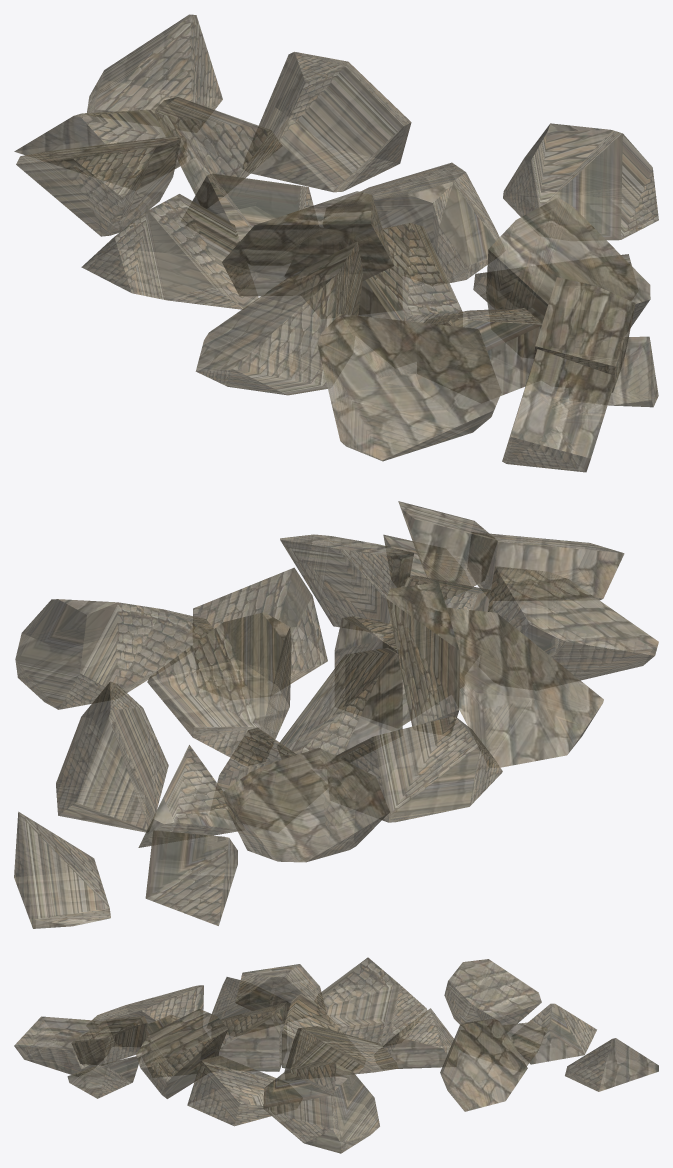
The model's file is BreakWallSmall_000018.obj.
The picture shows the model from 3 angles, top to bottom: view 1: azimuth 30°, elevation 25°; view 2: azimuth 150°, elevation 25°; view 3: azimuth 270°, elevation 25°; orthographic projection. The views are drawn at different scales.
Parts seen in each view (by area): view 1: Cube.002_cell.013_Cube.002_cell.012, Cube.002_cell.014_Cube.002_cell.013, Cube.002_cell.017_Cube.002_cell.016, Cube.002_cell.003_Cube.002_cell.002, Cube.002_cell.012_Cube.002_cell.011, Cube.002_cell.004_Cube.002_cell.003, Cube.002_cell.010_Cube.002_cell.009, Cube.002_cell.009_Cube.002_cell.008, Cube.002_cell.002_Cube.002_cell.001, Cube.002_cell.015_Cube.002_cell.014, Cube.002_cell.005_Cube.002_cell.004, Cube.002_cell.007_Cube.002_cell.006 (+6 smaller); view 2: Cube.002_cell.017_Cube.002_cell.016, Cube.002_cell.003_Cube.002_cell.002, Cube.002_cell.015_Cube.002_cell.014, Cube.002_cell.010_Cube.002_cell.009, Cube.002_cell.014_Cube.002_cell.013, Cube.002_cell.013_Cube.002_cell.012, Cube.002_cell.012_Cube.002_cell.011, Cube.002_cell.006_Cube.002_cell.005, Cube.002_cell.009_Cube.002_cell.008, Cube.002_cell.004_Cube.002_cell.003, Cube.002_cell.005_Cube.002_cell.004, Cube.002_cell.018_Cube.002_cell.017 (+8 smaller); view 3: Cube.002_cell.003_Cube.002_cell.002, Cube.002_cell.014_Cube.002_cell.013, Cube.002_cell.012_Cube.002_cell.011, Cube.002_cell.004_Cube.002_cell.003, Cube.002_cell.010_Cube.002_cell.009, Cube.002_cell.016_Cube.002_cell.015, Cube.002_cell.015_Cube.002_cell.014, Cube.002_cell.008_Cube.002_cell.007, Cube.002_cell.002_Cube.002_cell.001, Cube.002_cell.009_Cube.002_cell.008, Cube.002_cell.005_Cube.002_cell.004, Cube.002_cell_Cube.002_cell.020 (+8 smaller).
Boxes of the visible parts, bbox=[...] form: Cube.002_cell.013_Cube.002_cell.012: bbox=[317, 313, 501, 461]; Cube.002_cell.014_Cube.002_cell.013: bbox=[251, 51, 411, 192]; Cube.002_cell.017_Cube.002_cell.016: bbox=[195, 241, 363, 395]; Cube.002_cell.003_Cube.002_cell.002: bbox=[503, 123, 658, 240]; Cube.002_cell.012_Cube.002_cell.011: bbox=[81, 194, 258, 309]; Cube.002_cell.004_Cube.002_cell.003: bbox=[486, 197, 650, 327]; Cube.002_cell.010_Cube.002_cell.009: bbox=[16, 136, 180, 236]; Cube.002_cell.009_Cube.002_cell.008: bbox=[222, 191, 393, 296]; Cube.002_cell.002_Cube.002_cell.001: bbox=[502, 349, 616, 472]; Cube.002_cell.015_Cube.002_cell.014: bbox=[360, 162, 499, 282]; Cube.002_cell.005_Cube.002_cell.004: bbox=[87, 14, 222, 112]; Cube.002_cell.007_Cube.002_cell.006: bbox=[534, 277, 635, 392]; Cube.002_cell.017_Cube.002_cell.016: bbox=[446, 607, 603, 767]; Cube.002_cell.003_Cube.002_cell.002: bbox=[15, 599, 213, 709]; Cube.002_cell.015_Cube.002_cell.014: bbox=[147, 612, 291, 757]; Cube.002_cell.010_Cube.002_cell.009: bbox=[221, 747, 389, 862]; Cube.002_cell.014_Cube.002_cell.013: bbox=[56, 681, 168, 832]; Cube.002_cell.013_Cube.002_cell.012: bbox=[487, 566, 658, 680]; Cube.002_cell.012_Cube.002_cell.011: bbox=[335, 716, 502, 822]; Cube.002_cell.006_Cube.002_cell.005: bbox=[280, 647, 402, 755]; Cube.002_cell.009_Cube.002_cell.008: bbox=[386, 582, 459, 726]; Cube.002_cell.004_Cube.002_cell.003: bbox=[280, 534, 413, 627]; Cube.002_cell.005_Cube.002_cell.004: bbox=[14, 811, 110, 928]; Cube.002_cell.018_Cube.002_cell.017: bbox=[145, 830, 237, 925]; Cube.002_cell.003_Cube.002_cell.002: bbox=[263, 1060, 379, 1153]; Cube.002_cell.014_Cube.002_cell.013: bbox=[440, 1018, 527, 1111]; Cube.002_cell.012_Cube.002_cell.011: bbox=[321, 957, 427, 1046]; Cube.002_cell.004_Cube.002_cell.003: bbox=[136, 1009, 227, 1098]; Cube.002_cell.010_Cube.002_cell.009: bbox=[444, 959, 541, 1025]; Cube.002_cell.016_Cube.002_cell.015: bbox=[187, 1055, 276, 1126]; Cube.002_cell.015_Cube.002_cell.014: bbox=[284, 1026, 398, 1074]; Cube.002_cell.008_Cube.002_cell.007: bbox=[219, 1002, 286, 1071]; Cube.002_cell.002_Cube.002_cell.001: bbox=[14, 1016, 102, 1074]; Cube.002_cell.009_Cube.002_cell.008: bbox=[235, 964, 326, 1015]; Cube.002_cell.005_Cube.002_cell.004: bbox=[565, 1038, 658, 1091]; Cube.002_cell_Cube.002_cell.020: bbox=[383, 1008, 453, 1068].
Bounding box in the file's own units: 28.53 × 6.89 × 50.75.
2 materials, 2 textured.
